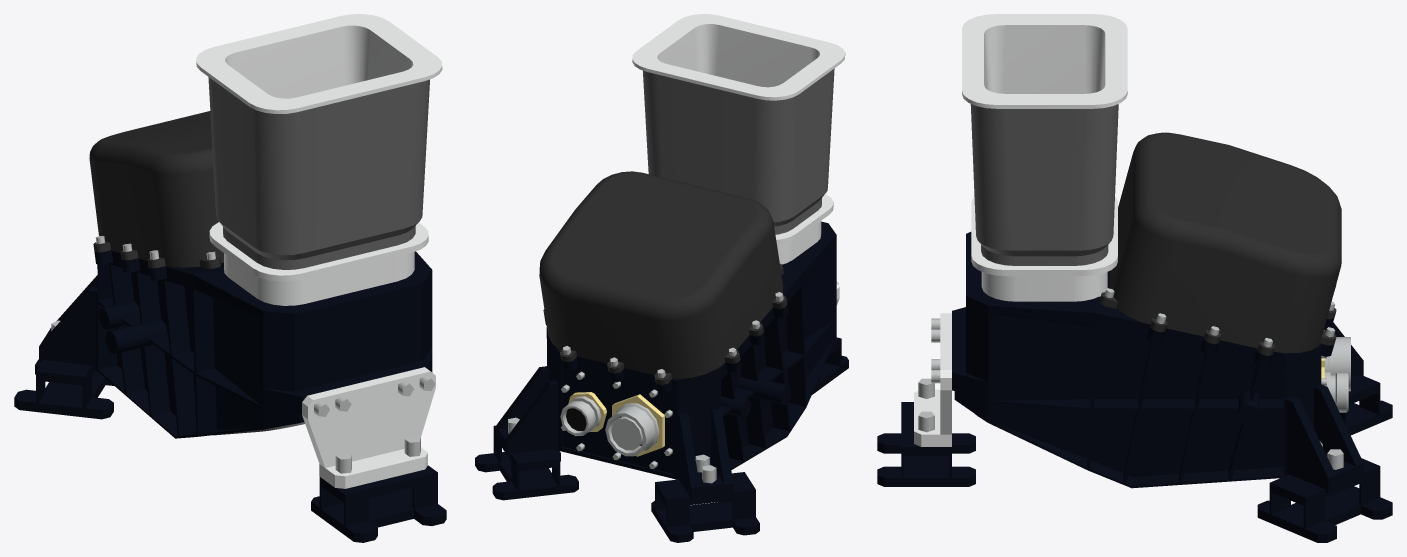
Rendered from thermal-infrared-imager.glb.
3 views of the same model, side by side, from view 1: azimuth 30°, elevation 25°; view 2: azimuth 150°, elevation 25°; view 3: azimuth 270°, elevation 25° (orthographic). The views are drawn at different scales.
Visible parts, largest first — view 1: e_themis; view 2: e_themis; view 3: e_themis.
Boxes of the visible parts, x1,y1,x2,y2 form: e_themis: (14, 14, 446, 542); e_themis: (475, 14, 848, 542); e_themis: (877, 14, 1392, 542).
Bounding box in the file's own units: 0.2397 × 0.2889 × 0.3328.
Materials: 1 (1 with a texture image).
